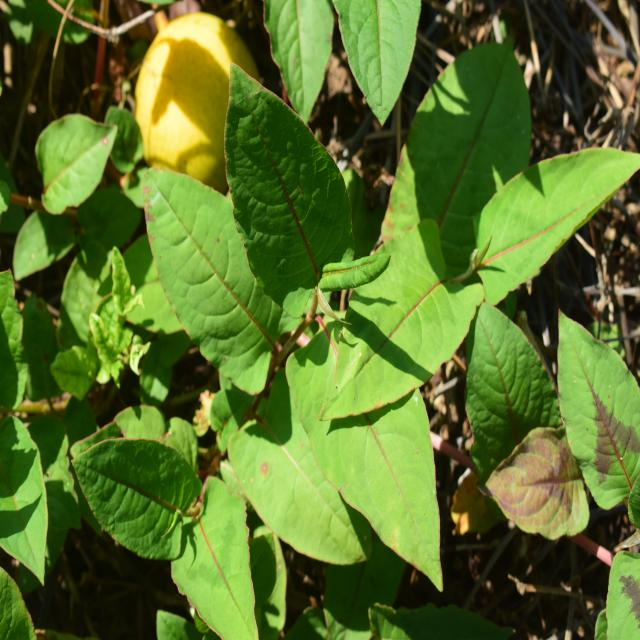Chinese_knotweed: (151, 89, 464, 574)
